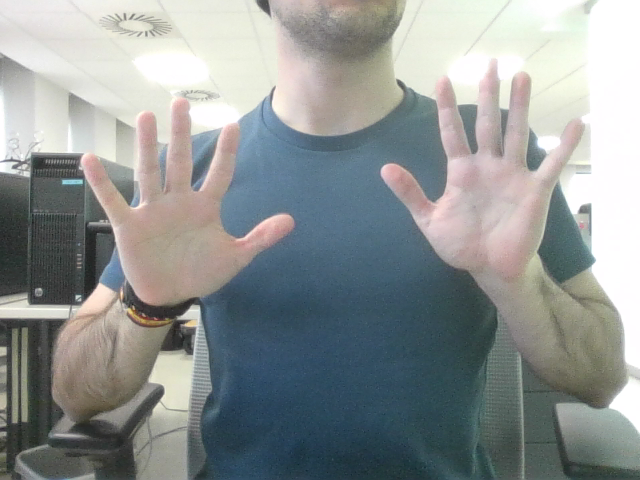Manos Arriba: (116, 82, 553, 271)
